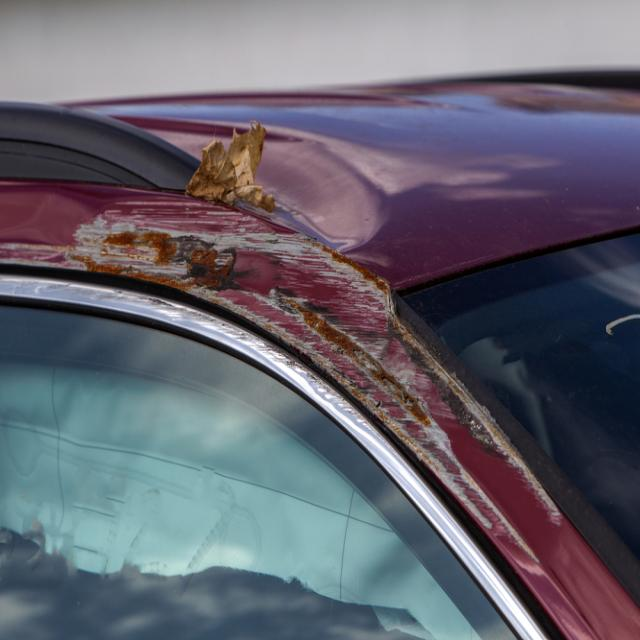dent: (255, 141, 381, 252)
scratch: (0, 187, 566, 568)
